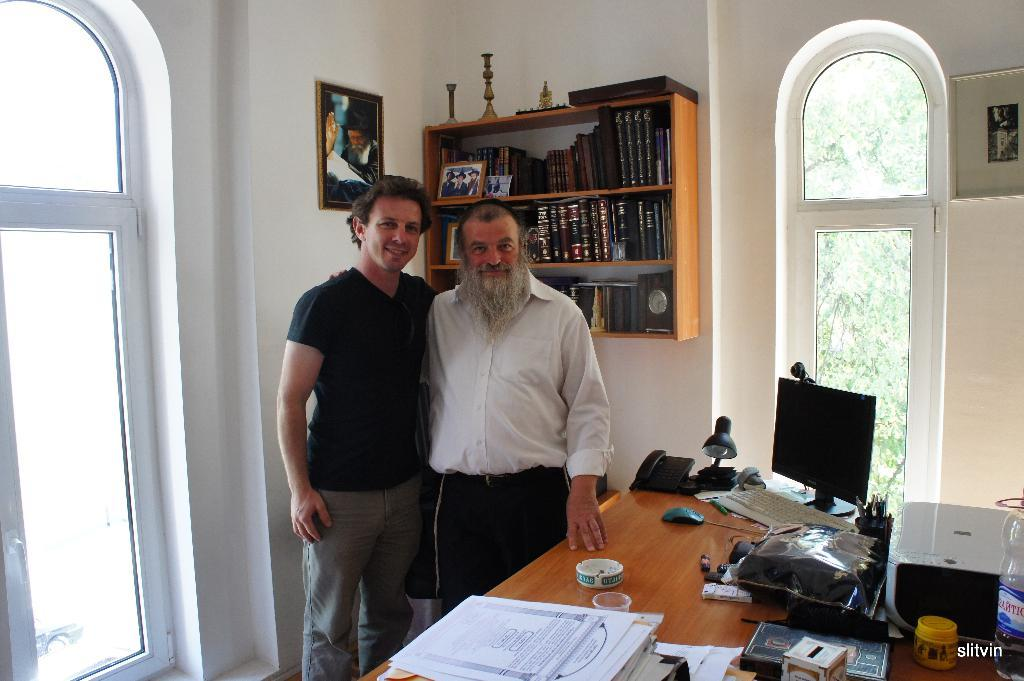Computer-monitor: (779, 384, 892, 523)
